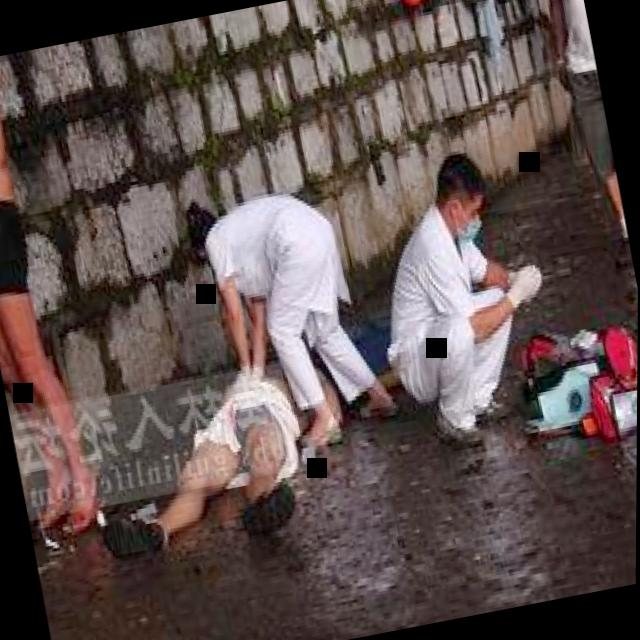Fall-Detected: (57, 338, 349, 570)
